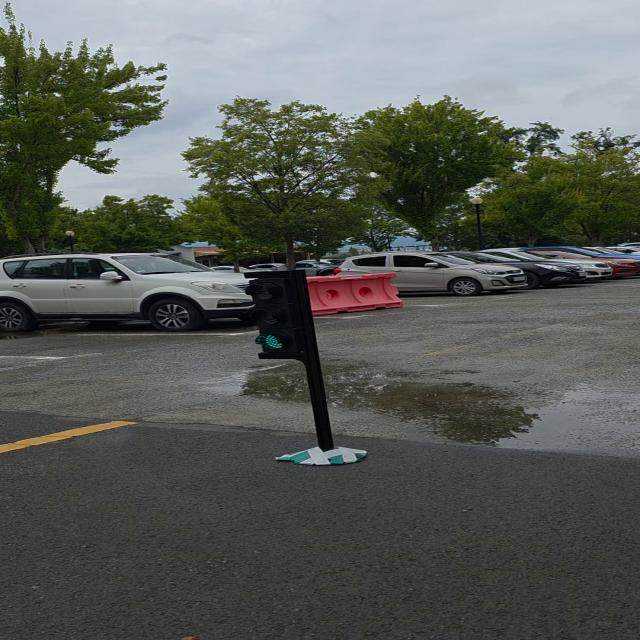green: (243, 269, 320, 363)
